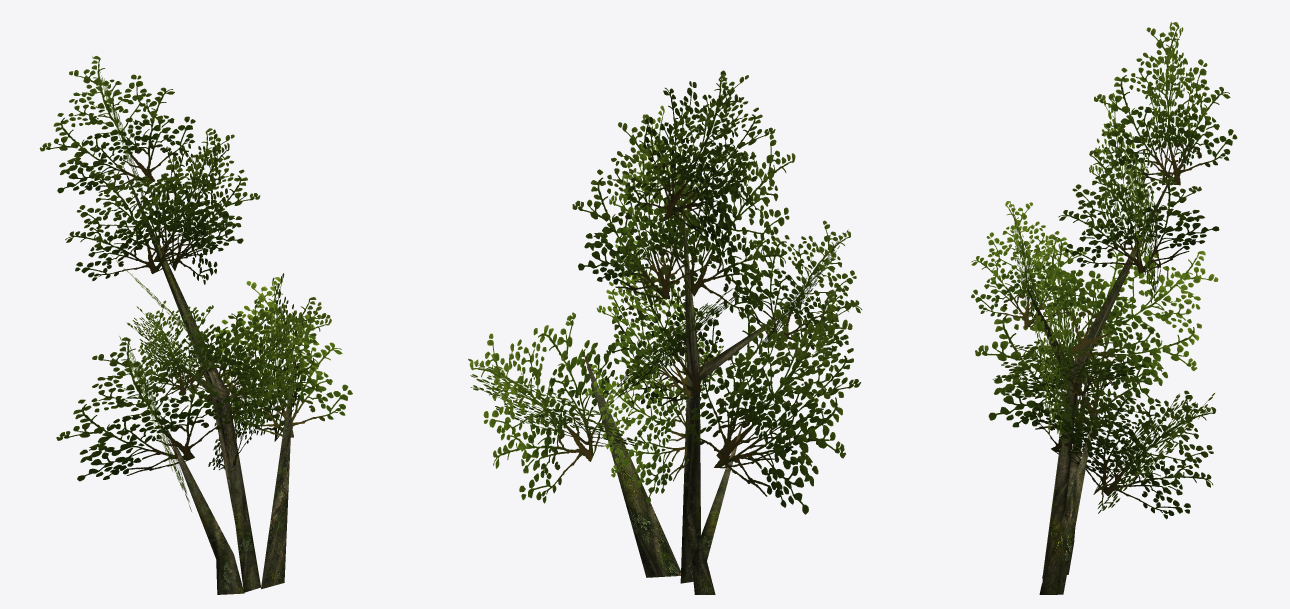
The model's file is XCZ_Tree_03_LOD2.FBX.
3 renders of one model, left to right at view 1: azimuth 30°, elevation 25°; view 2: azimuth 150°, elevation 25°; view 3: azimuth 270°, elevation 25°, orthographic. The views are drawn at different scales.
Parts seen in each view (by area): view 1: XCZ_Tree_03_02_LOD2, XCZ_Tree_03_01_LOD2; view 2: XCZ_Tree_03_02_LOD2, XCZ_Tree_03_01_LOD2; view 3: XCZ_Tree_03_02_LOD2, XCZ_Tree_03_01_LOD2.
Boxes of the visible parts, x1,y1,x2,y2 form: XCZ_Tree_03_02_LOD2: [39, 56, 352, 511]; XCZ_Tree_03_01_LOD2: [122, 165, 294, 594]; XCZ_Tree_03_02_LOD2: [468, 70, 861, 514]; XCZ_Tree_03_01_LOD2: [582, 202, 795, 594]; XCZ_Tree_03_02_LOD2: [971, 22, 1237, 519]; XCZ_Tree_03_01_LOD2: [1026, 156, 1181, 594].
Size of the model in its own units: 1084 by 1455 by 807.
